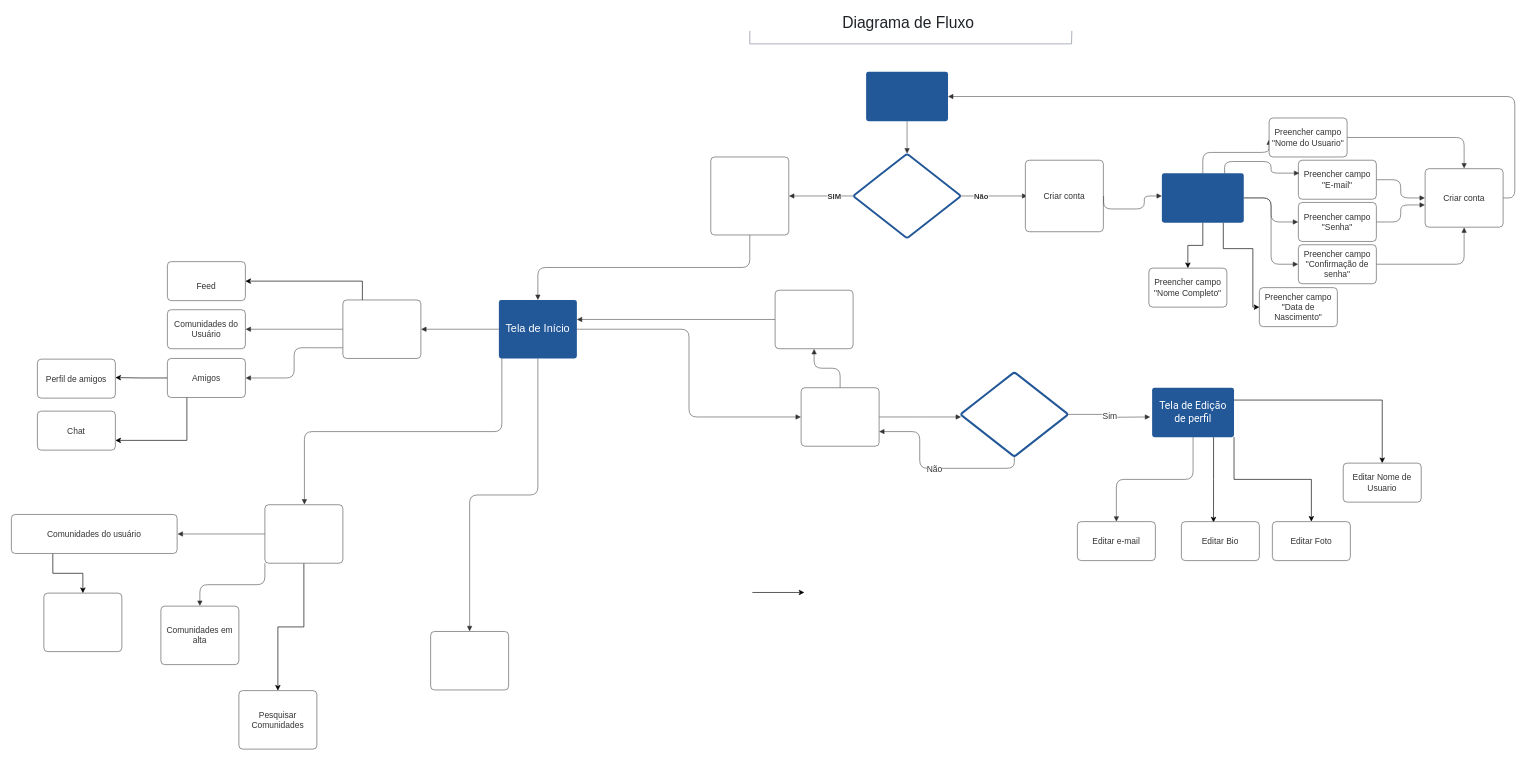
This 1531x761 diagram has some shape labels left out. The box of each missing label's shape, as (x1, y1, x2, y2) in pixels:
%creatorName% | %date{mmmm d, yyyy}%: (700, 31, 1117, 41)
Comunidade: (43, 593, 122, 652)
Deseja Editar perfil?: (959, 371, 1069, 457)
Entrar: (710, 156, 789, 235)
Equipes: (430, 631, 509, 690)
Explorar: (264, 504, 343, 563)
Início: (342, 299, 421, 358)
Menu de usuário: (801, 387, 879, 446)
Possui conta?: (852, 152, 962, 239)
Tela de Cadastro: (1161, 172, 1244, 223)
Tela de Login: (865, 71, 948, 121)
Voltar: (775, 290, 853, 349)
